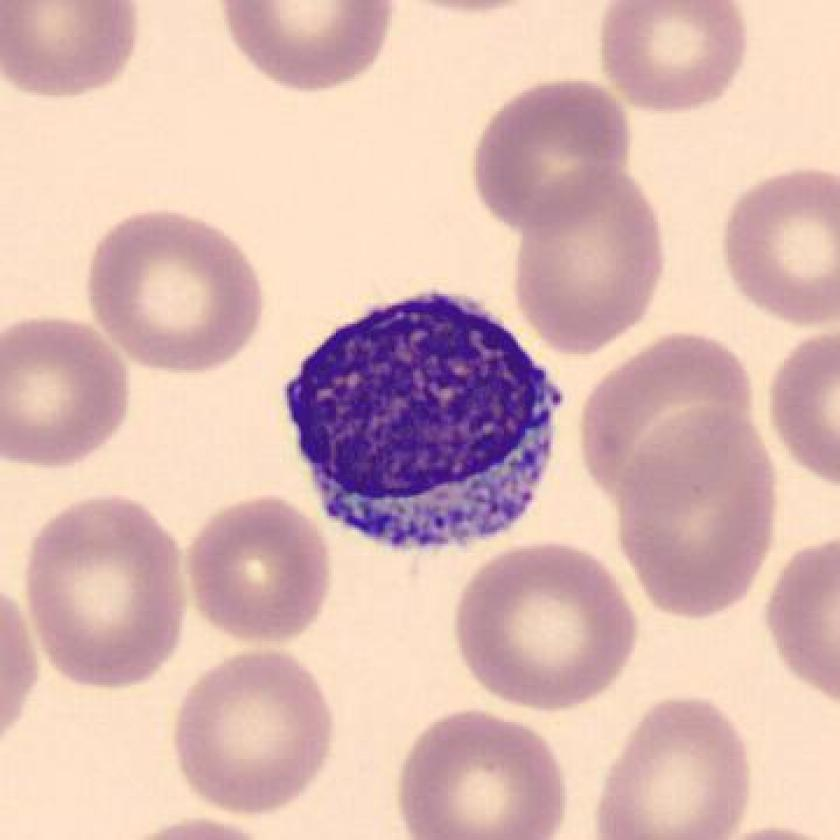lymphocyte: (269, 274, 580, 570)
